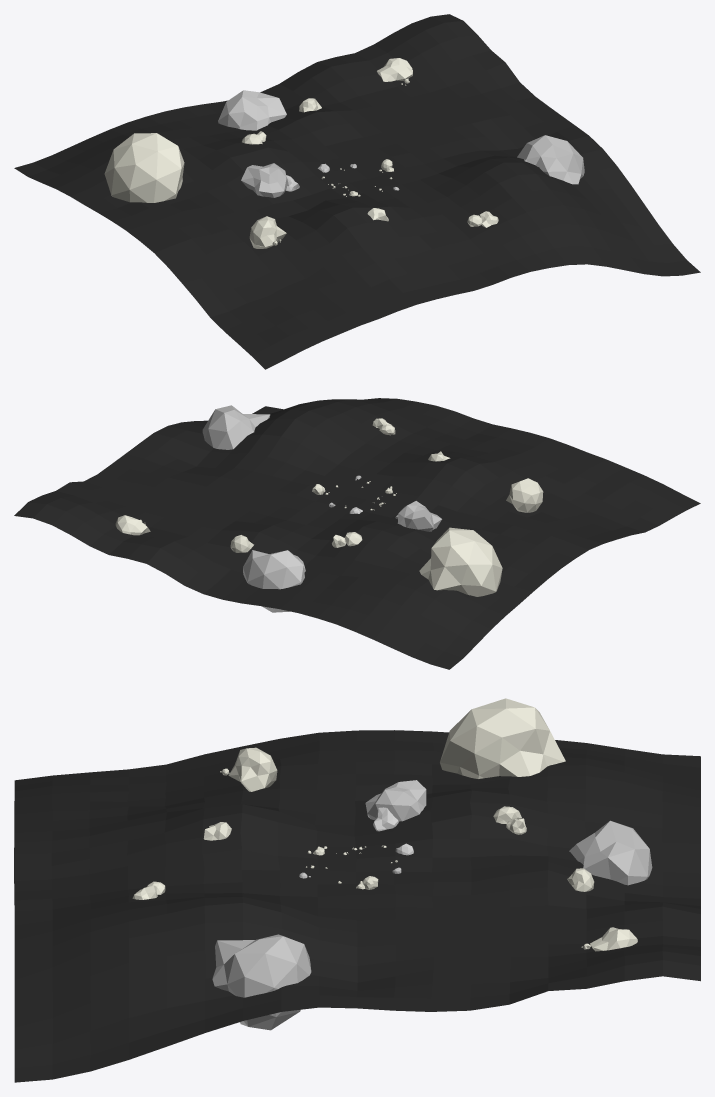
Rendered from rover-scenery.glb.
The picture shows the model from 3 angles, top to bottom: view 1: azimuth 30°, elevation 25°; view 2: azimuth 150°, elevation 25°; view 3: azimuth 270°, elevation 25°; orthographic projection. The views are drawn at different scales.
Visible parts, largest first — view 1: Icosphere.002; view 2: Icosphere.002; view 3: Icosphere.002.
Boxes of the visible parts, x1,y1,x2,y2 form: Icosphere.002: (14, 14, 700, 369); Icosphere.002: (14, 398, 700, 669); Icosphere.002: (14, 698, 700, 1082).
Bounding box in the file's own units: 90.35 × 19.03 × 90.
2 materials, 2 textured.
